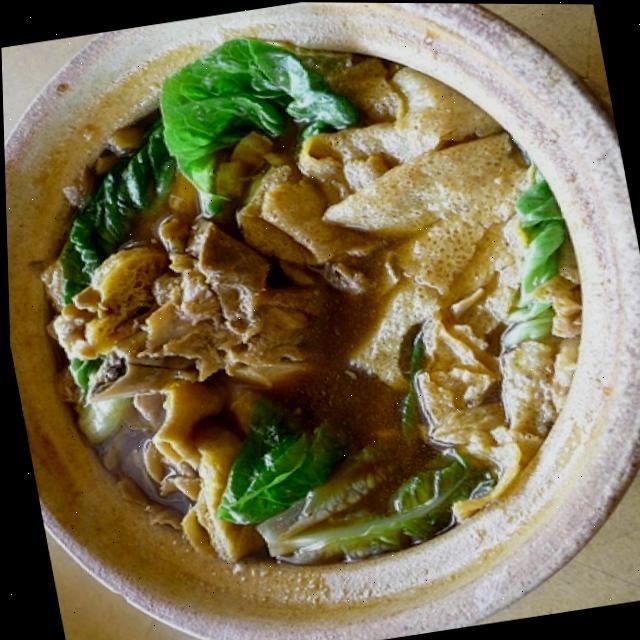汤锅炖物: (0, 0, 631, 635)
